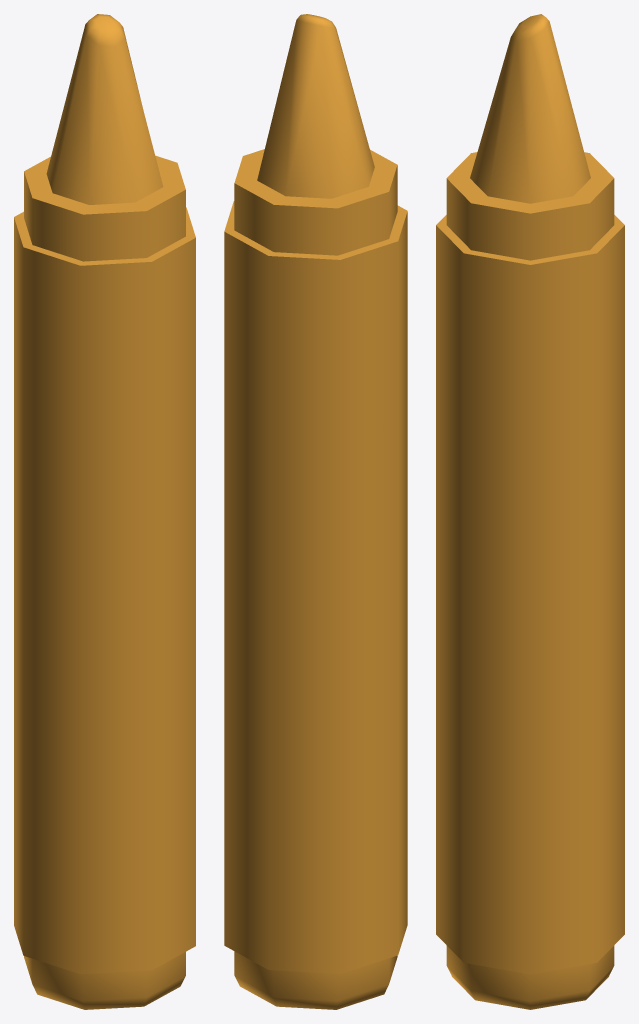
The model's file is Mesh_Crayola.fbx.
3 renders of one model, left to right at view 1: azimuth 30°, elevation 25°; view 2: azimuth 150°, elevation 25°; view 3: azimuth 270°, elevation 25°, orthographic.
Visible parts, largest first — view 1: Mesh_Crayola; view 2: Mesh_Crayola; view 3: Mesh_Crayola.
Boxes of the visible parts, bbox=[...] form: Mesh_Crayola: bbox=[14, 14, 195, 1009]; Mesh_Crayola: bbox=[224, 14, 407, 1009]; Mesh_Crayola: bbox=[436, 14, 624, 1009].
Size of the model in its own units: 2.49 by 14.06 by 2.49.
